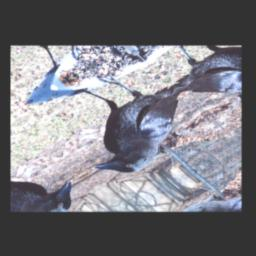Crow: (32, 54, 219, 185)
